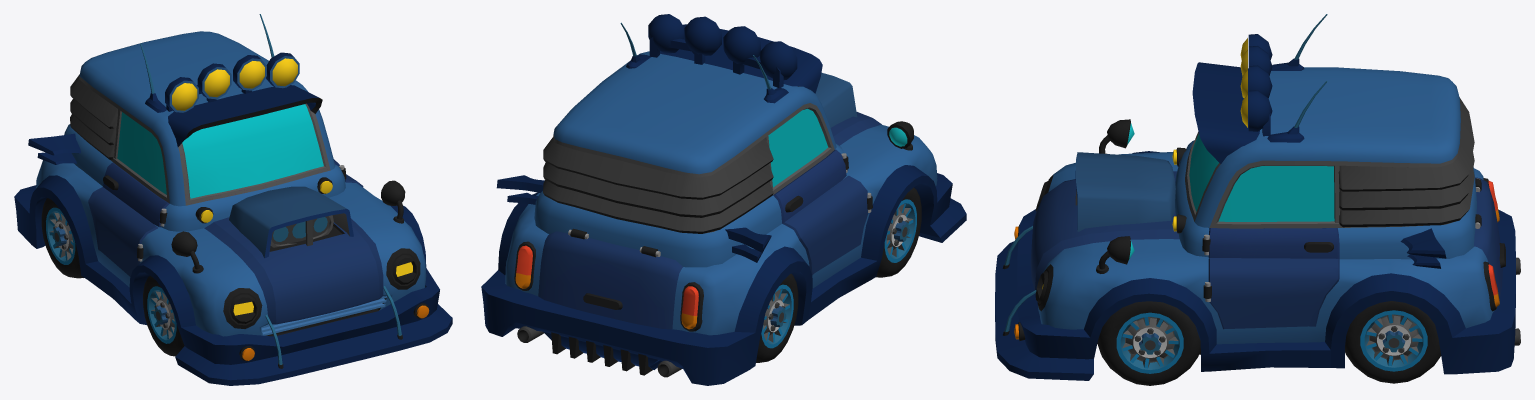
The model's file is VEH13-C.fbx.
3 views of the same model, side by side, from view 1: azimuth 30°, elevation 25°; view 2: azimuth 150°, elevation 25°; view 3: azimuth 270°, elevation 25° (orthographic). The views are drawn at different scales.
Parts seen in each view (by area): view 1: VEH13_C, V13C_Wheel_BR, V13C_Wheel_FR; view 2: VEH13_C, V13C_Wheel_FR, V13C_Wheel_BR; view 3: VEH13_C, V13C_Wheel_FL, V13C_Wheel_BL.
Boxes of the visible parts, <box> form: VEH13_C: <box>14,14,452,385</box>; V13C_Wheel_BR: <box>41,198,83,278</box>; V13C_Wheel_FR: <box>143,275,184,356</box>; VEH13_C: <box>481,14,966,385</box>; V13C_Wheel_FR: <box>876,187,921,277</box>; V13C_Wheel_BR: <box>756,273,798,362</box>; VEH13_C: <box>995,14,1520,380</box>; V13C_Wheel_FL: <box>1097,301,1200,385</box>; V13C_Wheel_BL: <box>1345,301,1441,383</box>.
Size of the model in its own units: 280 by 257 by 437.
Materials: 1 (1 with a texture image).
